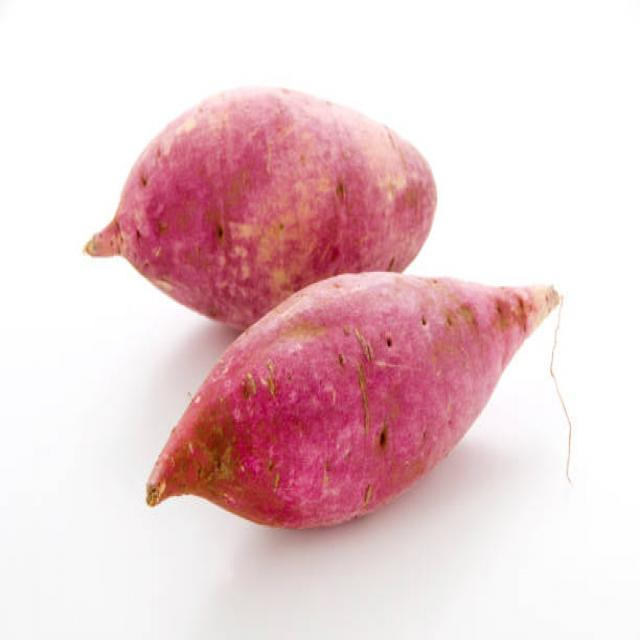sweet potato: (138, 266, 567, 531), (82, 80, 444, 306)
